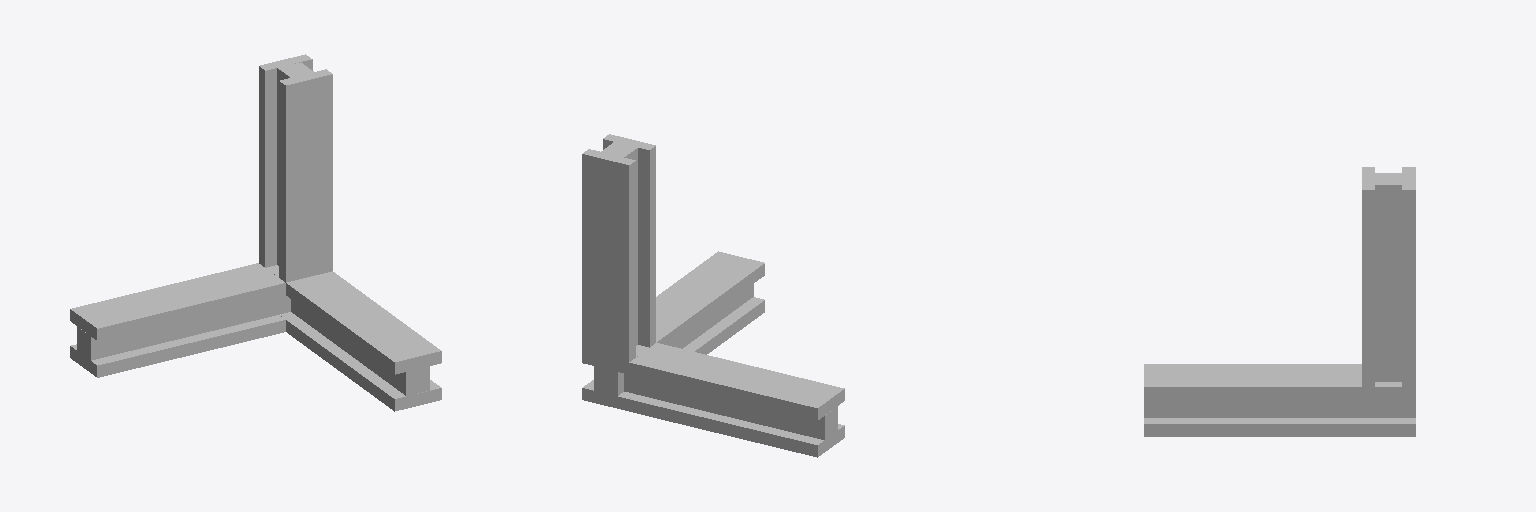
The model's file is companionCreatorFrame1.obj.
3 views of the same model, side by side, from view 1: azimuth 30°, elevation 25°; view 2: azimuth 150°, elevation 25°; view 3: azimuth 270°, elevation 25° (orthographic).
Visible parts, largest first — view 1: E, A, H, D, G, C, F, B, Null_1_Cube1; view 2: G, A, H, D, C, E, F, B, Null_1_Cube1; view 3: H, Null_1_Cube1, F, B, G, E.
Boxes of the visible parts, box(x1,y1,x2,y2) form: E: box(279, 69, 332, 282); A: box(70, 263, 285, 340); H: box(266, 265, 441, 374); D: box(77, 295, 290, 360); G: box(259, 54, 312, 267); C: box(70, 315, 285, 377); F: box(280, 312, 441, 411); B: box(291, 299, 429, 395); Null_1_Cube1: box(277, 62, 313, 265); G: box(582, 149, 635, 361); A: box(629, 343, 844, 420); H: box(582, 251, 764, 374); D: box(624, 374, 837, 439); C: box(629, 395, 844, 457); E: box(603, 134, 655, 347); F: box(582, 297, 764, 410); B: box(594, 284, 753, 395); Null_1_Cube1: box(601, 142, 637, 345); H: box(1144, 364, 1415, 399); Null_1_Cube1: box(1375, 173, 1401, 381); F: box(1144, 418, 1415, 436); B: box(1144, 400, 1415, 417); G: box(1402, 167, 1415, 386); E: box(1362, 167, 1374, 386).
Bounding box in the file's own units: 2 × 2 × 2.